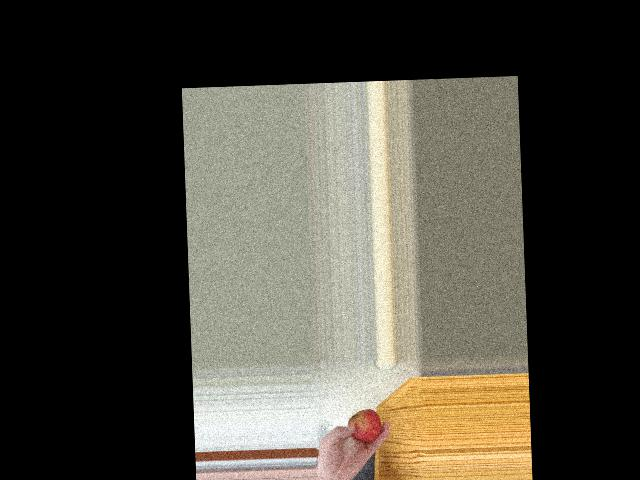apple: (348, 406, 382, 445)
